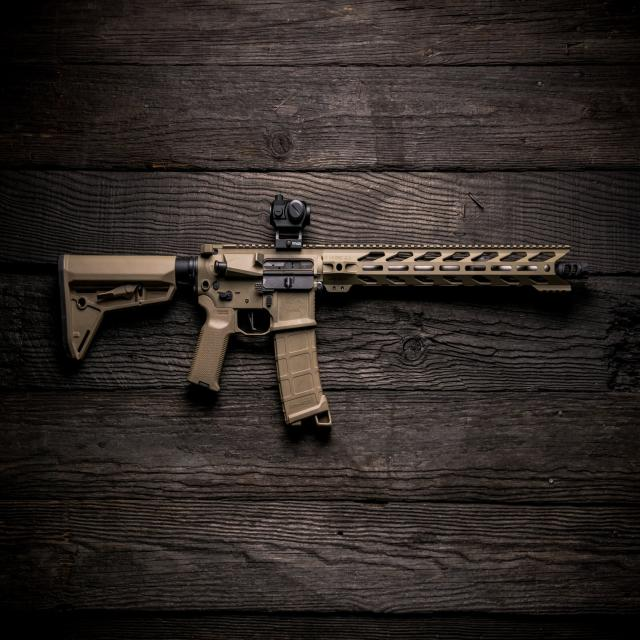Rifle: (58, 197, 574, 443)
